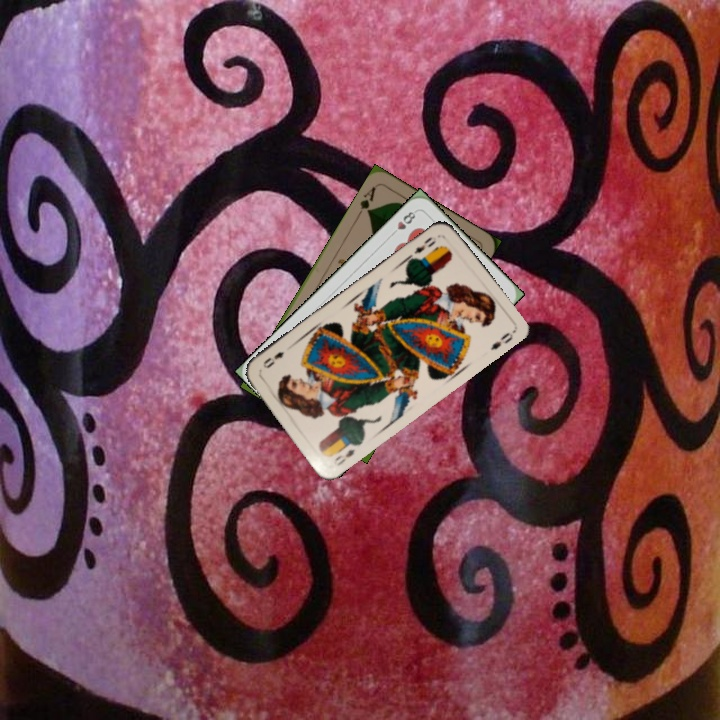EO: (410, 232, 439, 256), (330, 445, 357, 468)
GA: (353, 182, 379, 219)
H8: (387, 206, 419, 239)
